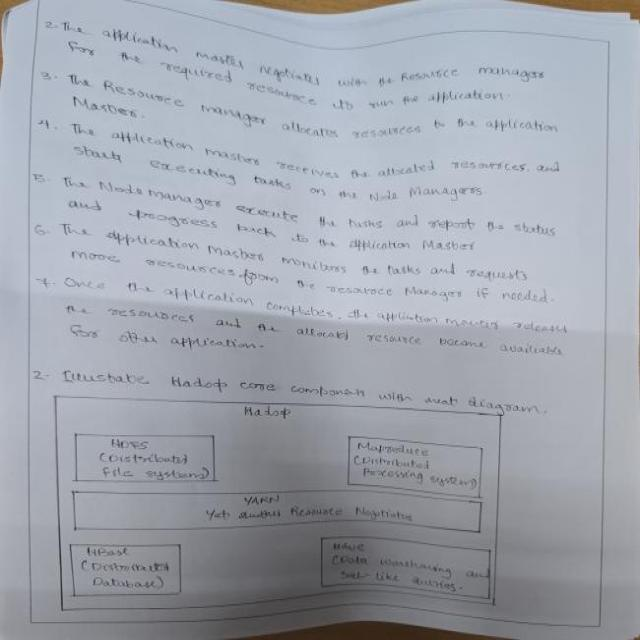Figure Detection - v3 Dataset Version2: (44, 387, 558, 625)
